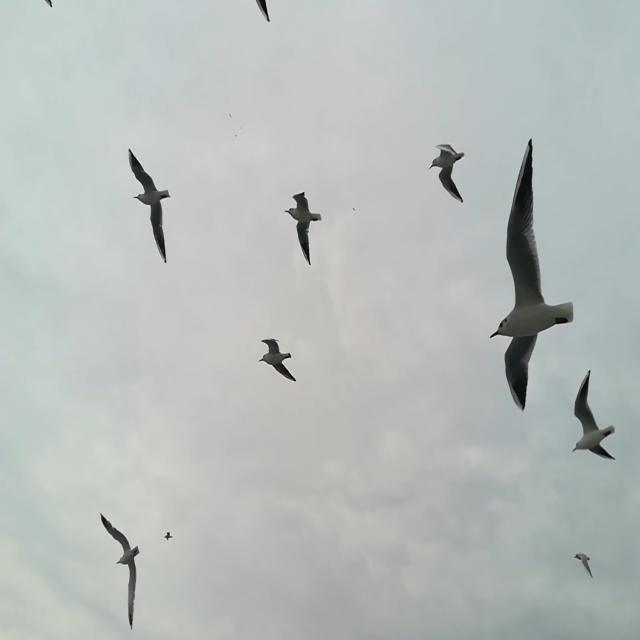bird: (488, 140, 576, 417), (130, 148, 174, 262), (99, 512, 140, 630), (574, 369, 618, 459), (285, 192, 321, 264), (429, 144, 466, 203), (258, 336, 296, 384), (574, 552, 594, 579), (253, 0, 271, 23), (162, 529, 173, 542), (44, 0, 55, 8)
